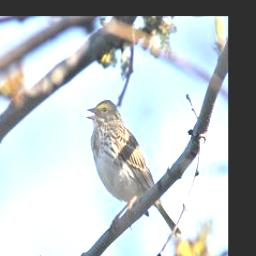Sparrow: (86, 97, 184, 238)
